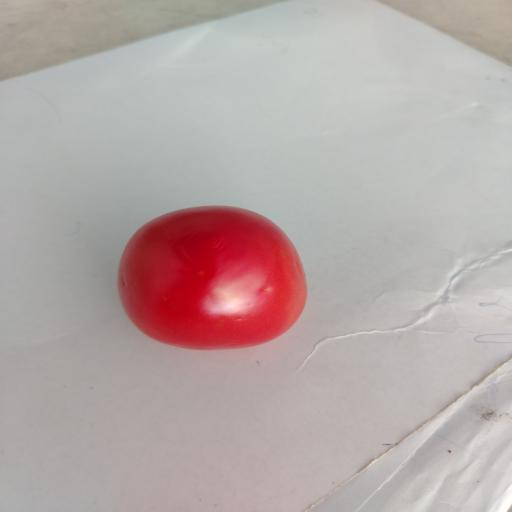ripe: (118, 206, 307, 349)
